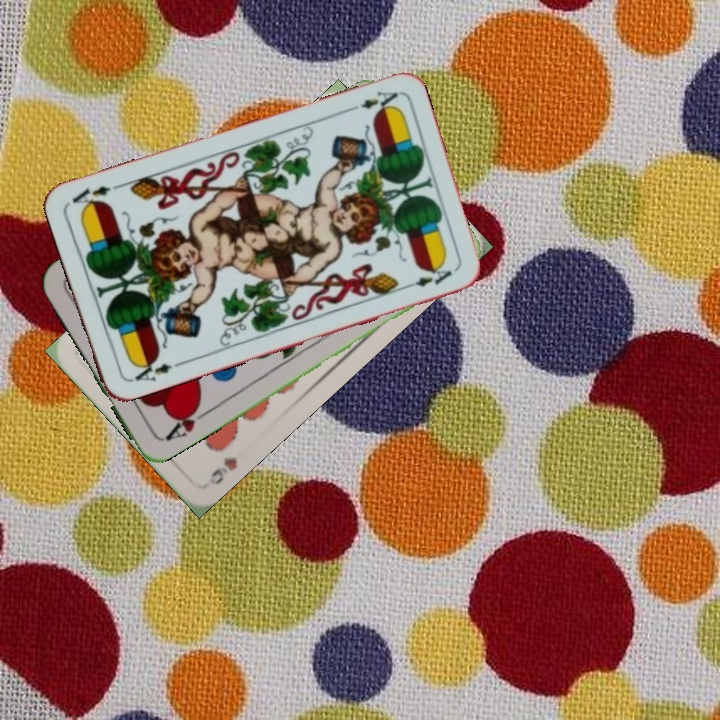EA: (343, 87, 401, 116), (126, 353, 175, 385)
H9: (205, 451, 240, 488)
HA: (159, 400, 212, 444)
